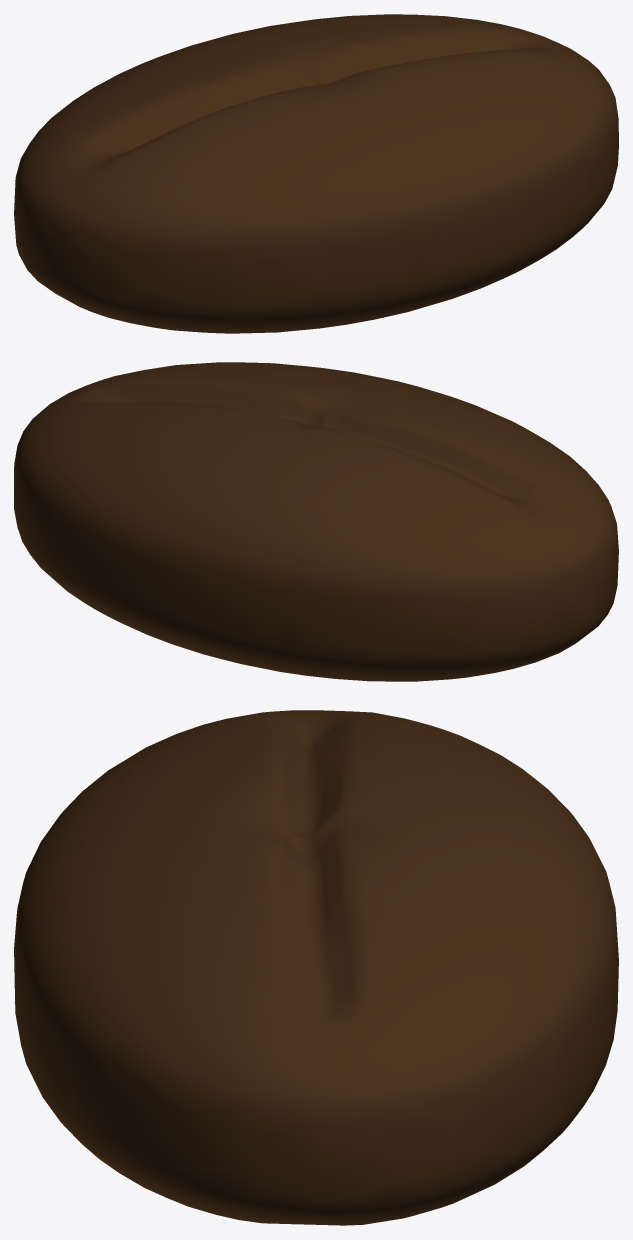
Rendered from coffeeBean.glb.
The picture shows the model from 3 angles, top to bottom: view 1: azimuth 30°, elevation 25°; view 2: azimuth 150°, elevation 25°; view 3: azimuth 270°, elevation 25°; orthographic projection. The views are drawn at different scales.
Parts seen in each view (by area): view 1: coffeeBean; view 2: coffeeBean; view 3: coffeeBean.
Boxes of the visible parts, box(x1,y1,x2,y2) form: coffeeBean: box(14, 14, 618, 333); coffeeBean: box(14, 362, 618, 681); coffeeBean: box(14, 710, 618, 1225).
Size of the model in its own units: 0.0199 by 0.00724 by 0.0132.
